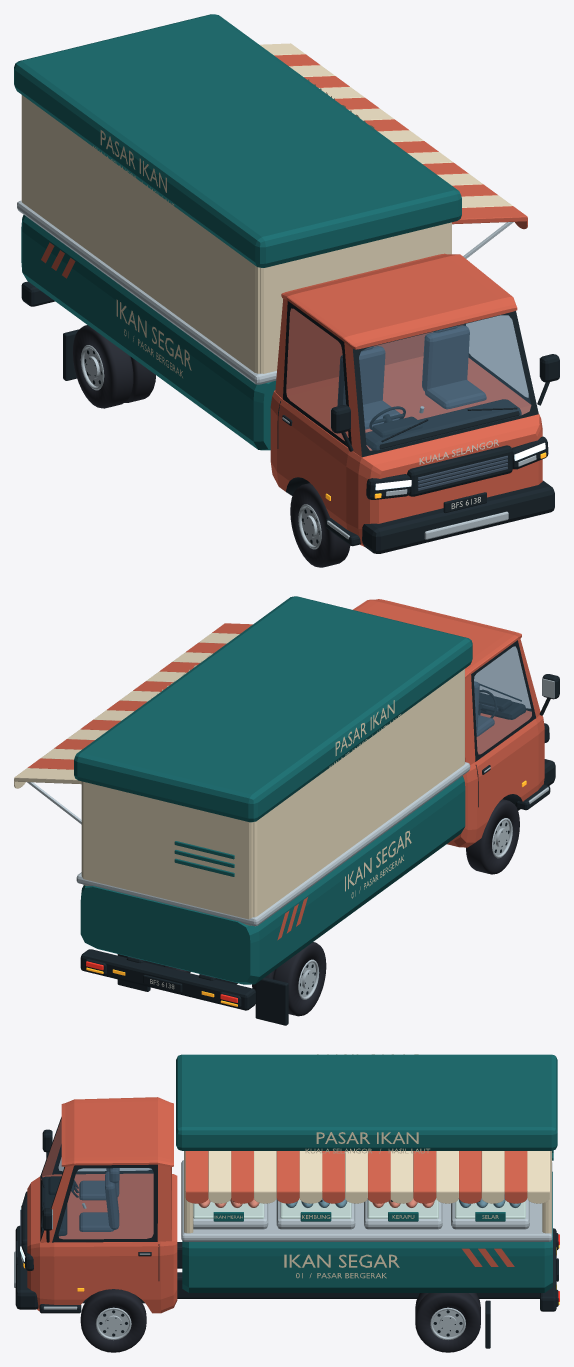
3 renders of one model, top to bottom at view 1: azimuth 30°, elevation 25°; view 2: azimuth 150°, elevation 25°; view 3: azimuth 270°, elevation 25°, orthographic. The views are drawn at different scales.
Parts seen in each view (by area): view 1: Kuala Selangor Mobile Fish Stall; view 2: Kuala Selangor Mobile Fish Stall; view 3: Kuala Selangor Mobile Fish Stall.
Part boxes in pixels (box(x1,y1,x2,y2)): Kuala Selangor Mobile Fish Stall: box(14, 14, 559, 567); Kuala Selangor Mobile Fish Stall: box(14, 596, 559, 1025); Kuala Selangor Mobile Fish Stall: box(14, 1054, 559, 1352).
Bounding box in the file's own units: 2.99 × 2.97 × 6.45.
